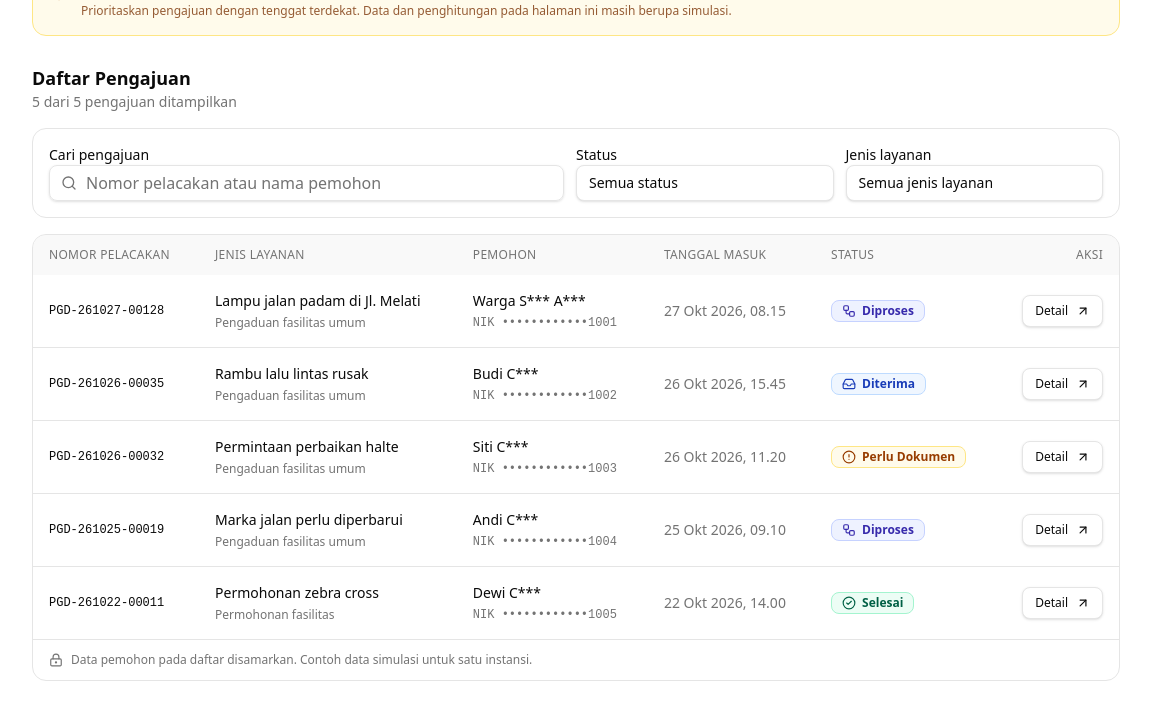
Test case: AgencyDashboard › does not allow editing an application already marked complete
(page scrolled)
Click the button named "Lihat detail PGD-261022-00011".
click(1063, 603)  # box [1022, 587, 1103, 619]
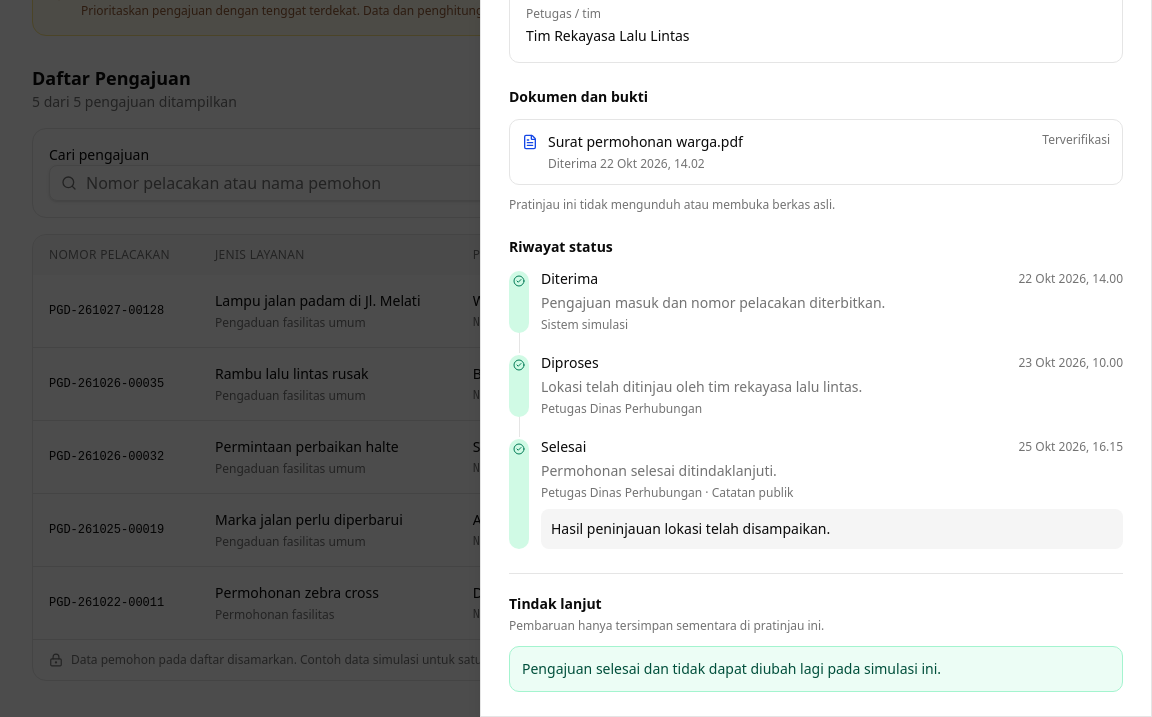
Expected: the text "Pengajuan selesai dan tidak dapat diubah lagi" is shown, [522, 659, 941, 678]
